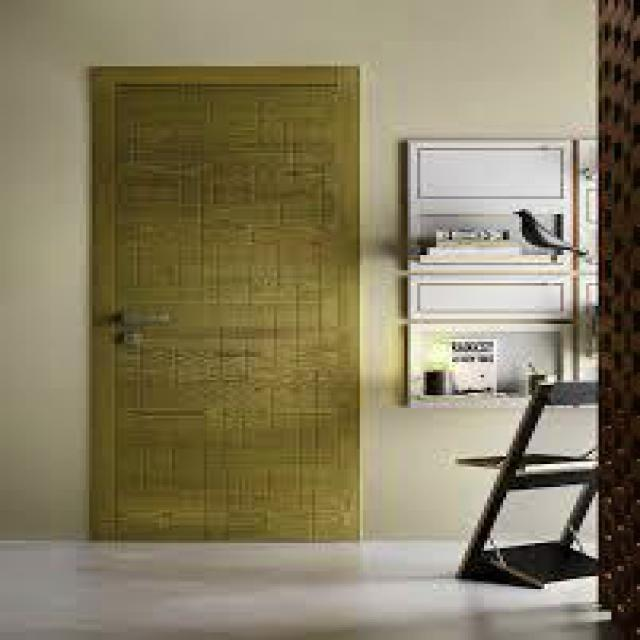door: (88, 64, 362, 543)
